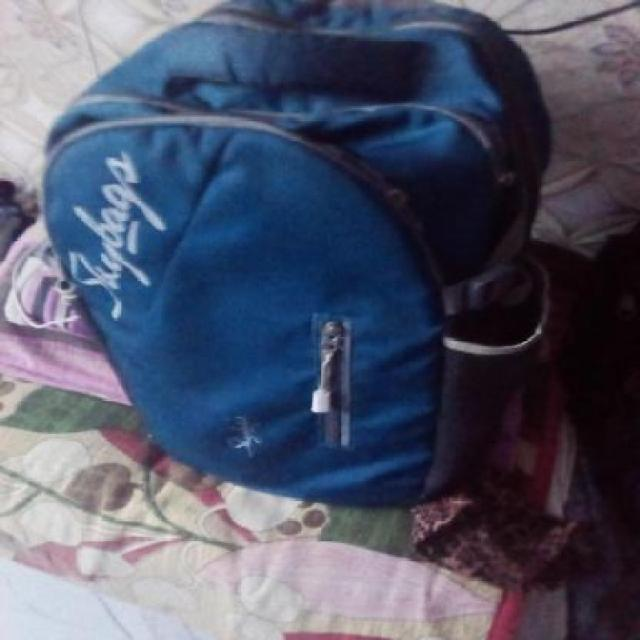backpack: (36, 0, 556, 511)
